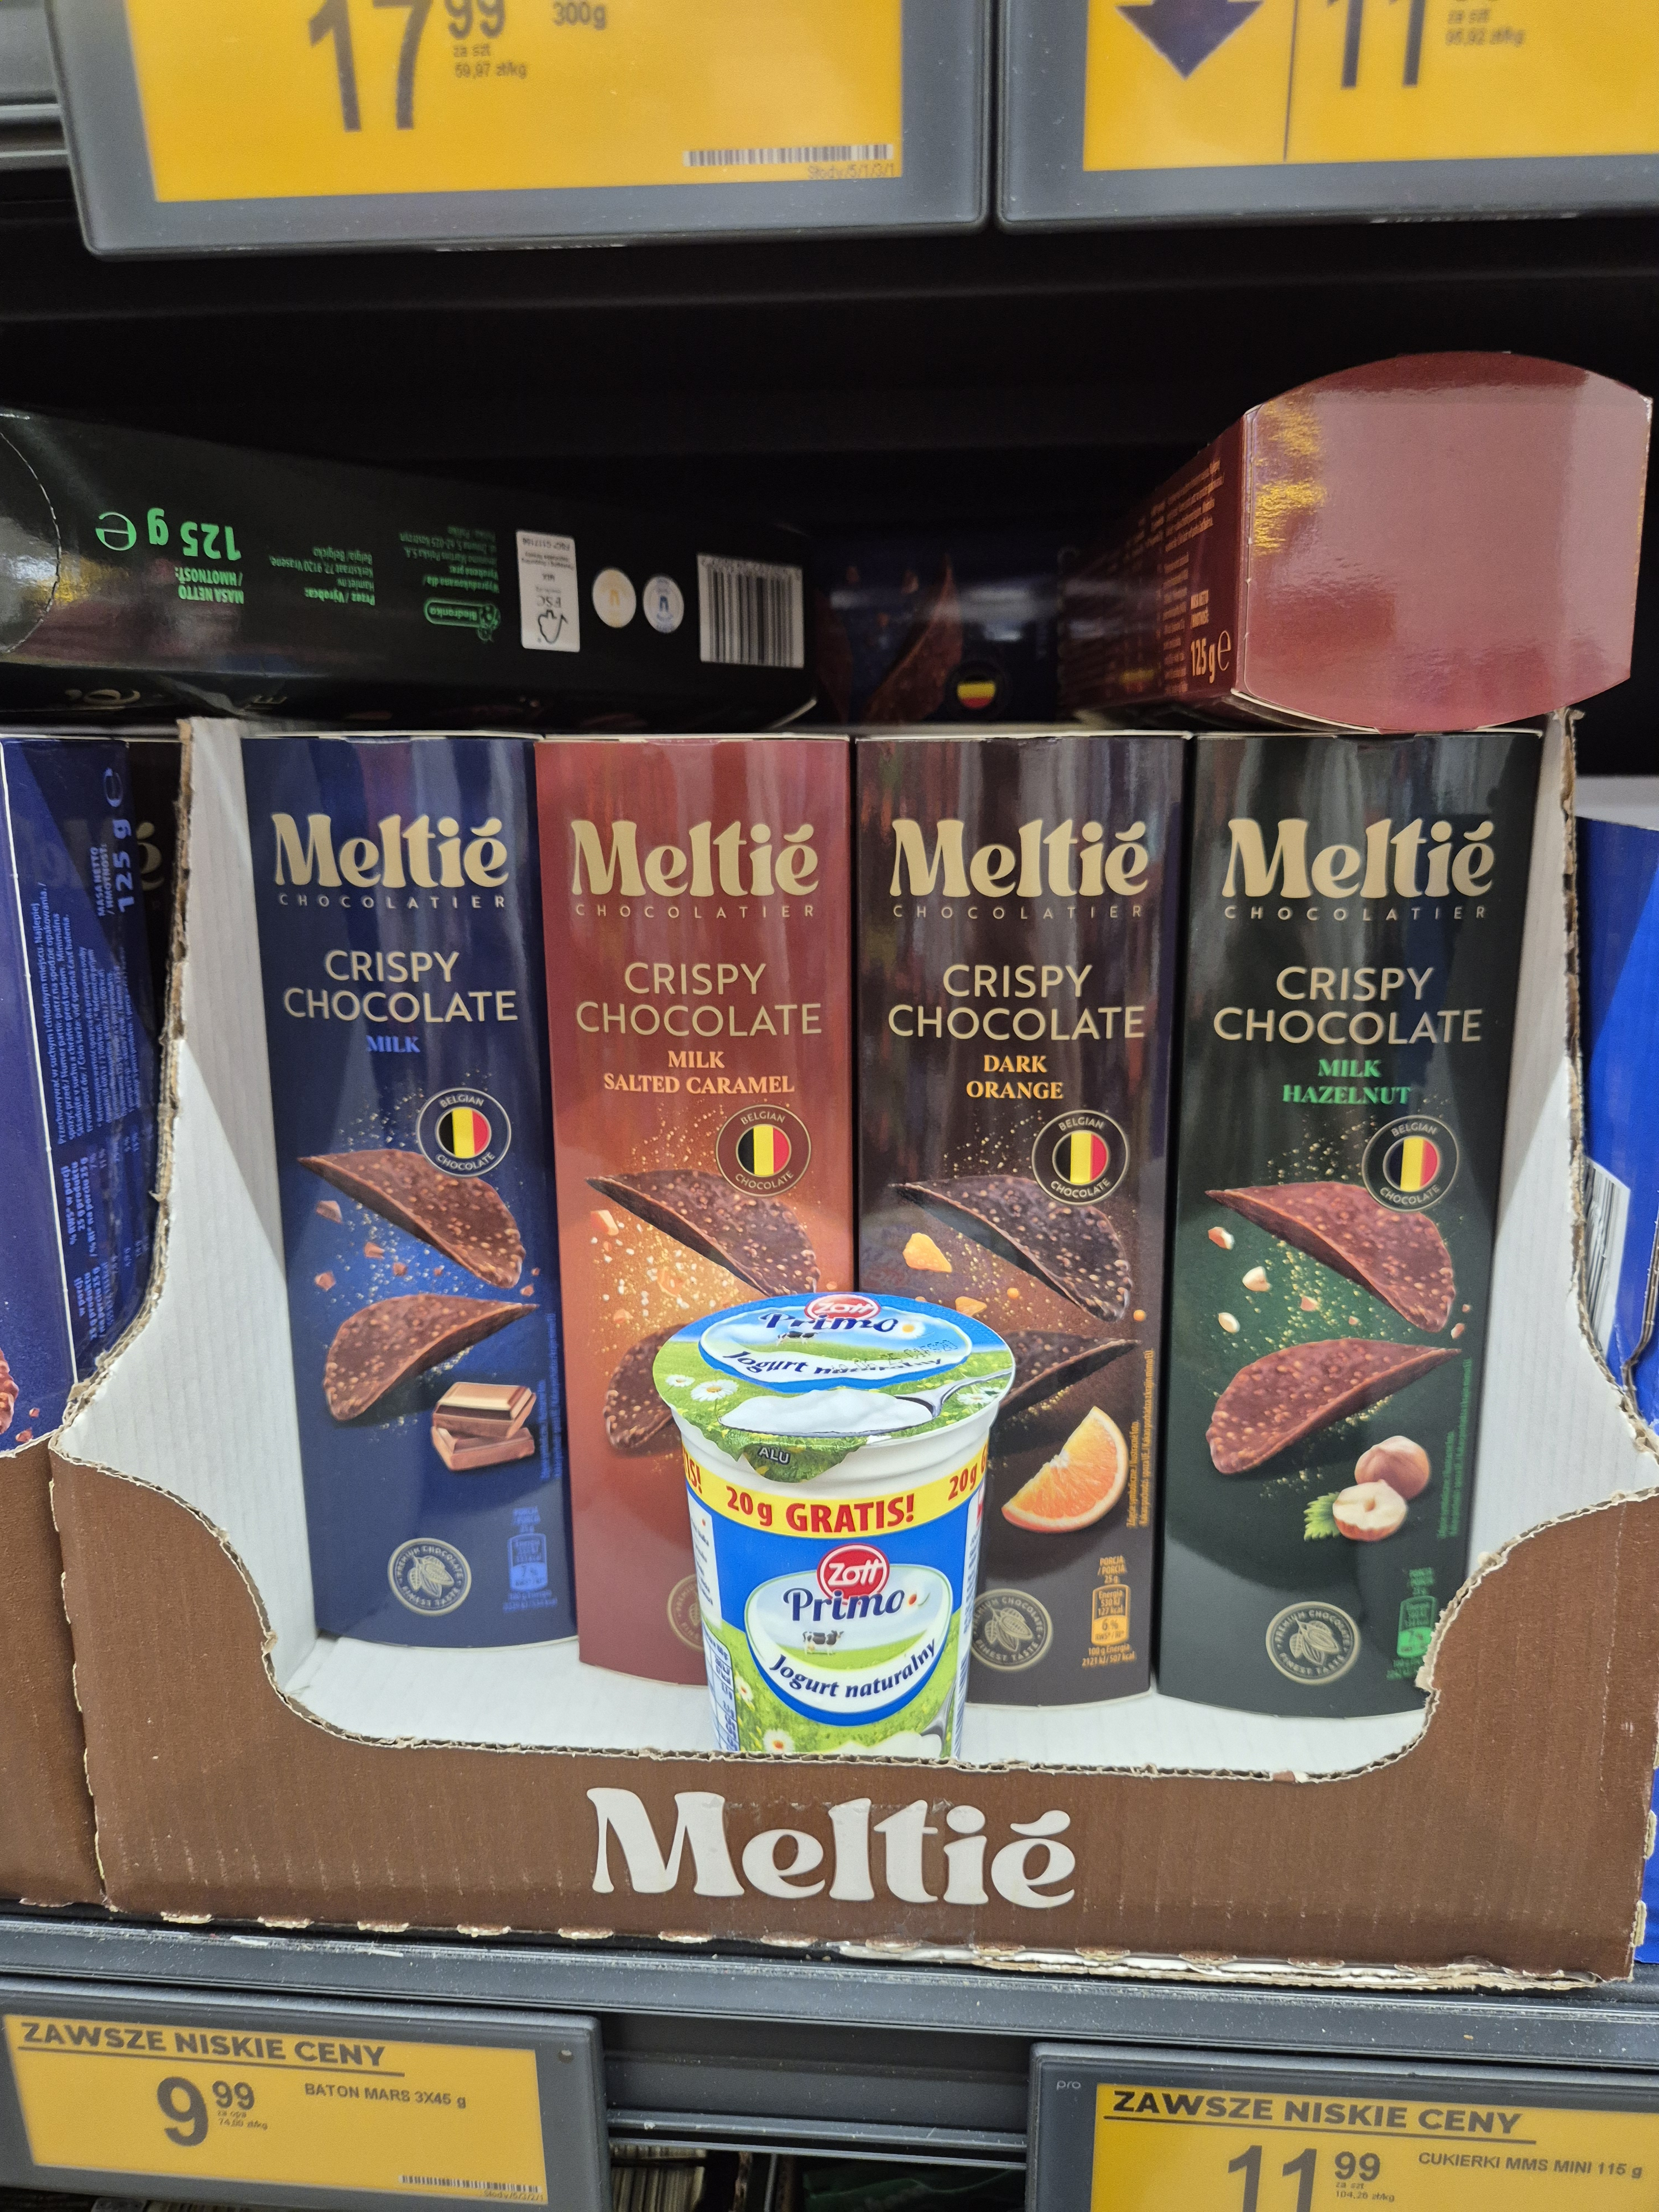Yogurt: (655, 1305, 1023, 1764)
